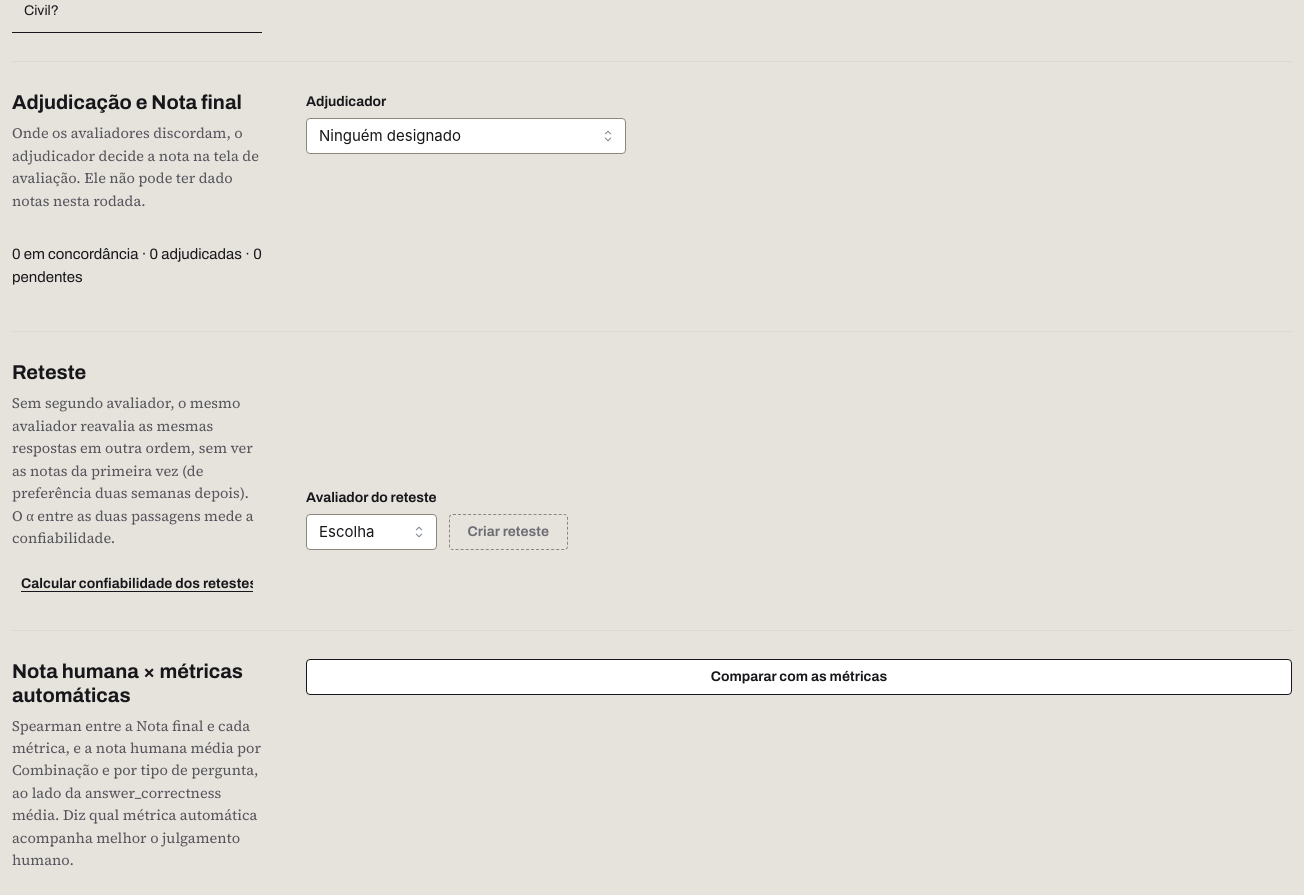
Test case: RodadaDetailPage › creates a retest for an Avaliador who scored the Rodada and shows the intra-rater alpha
(page scrolled)
Select "Ana" in the dropdown labelled "Avaliador do reteste": (371, 532) [306,514,437,550]
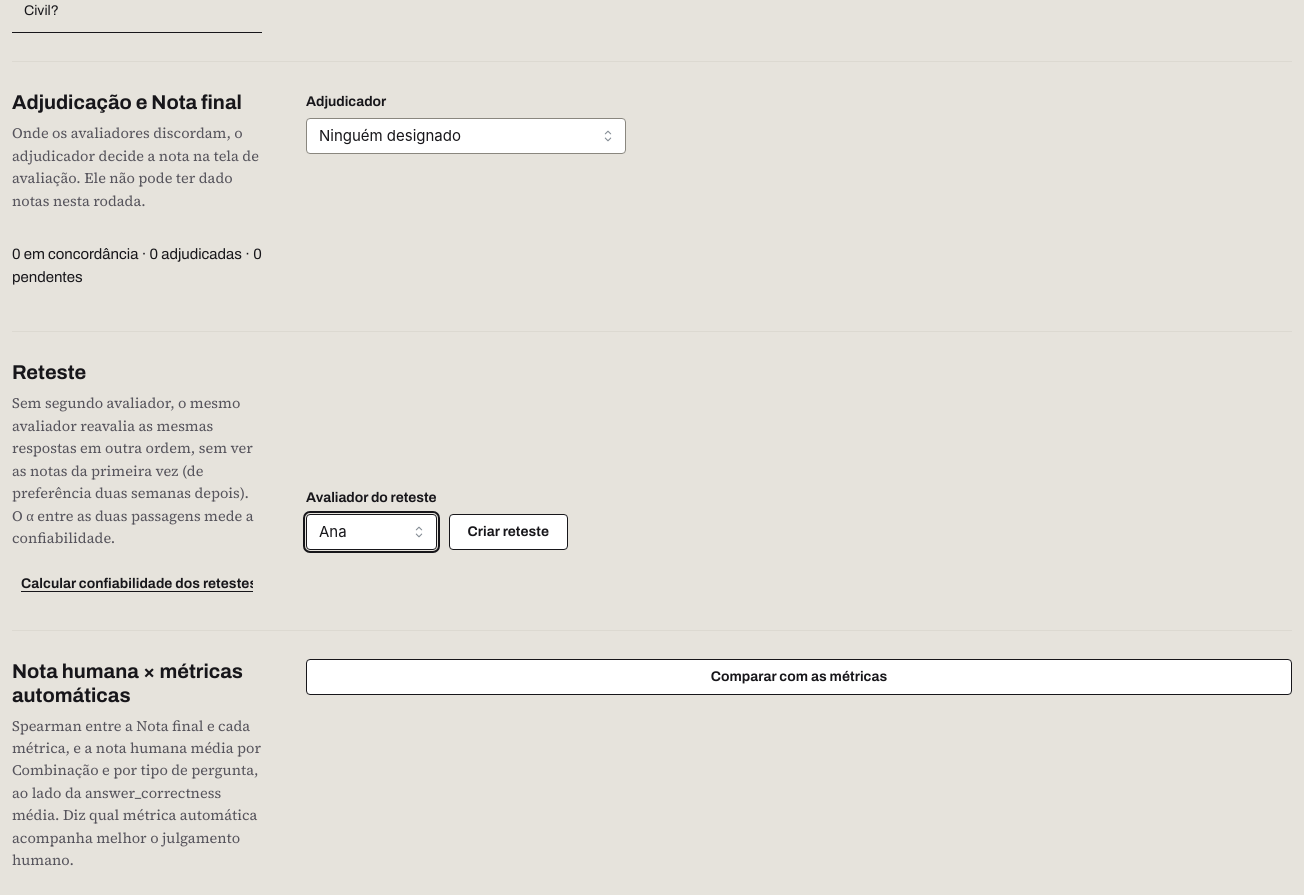
Click the button "Criar reteste": (508, 532) [449,514,568,550]
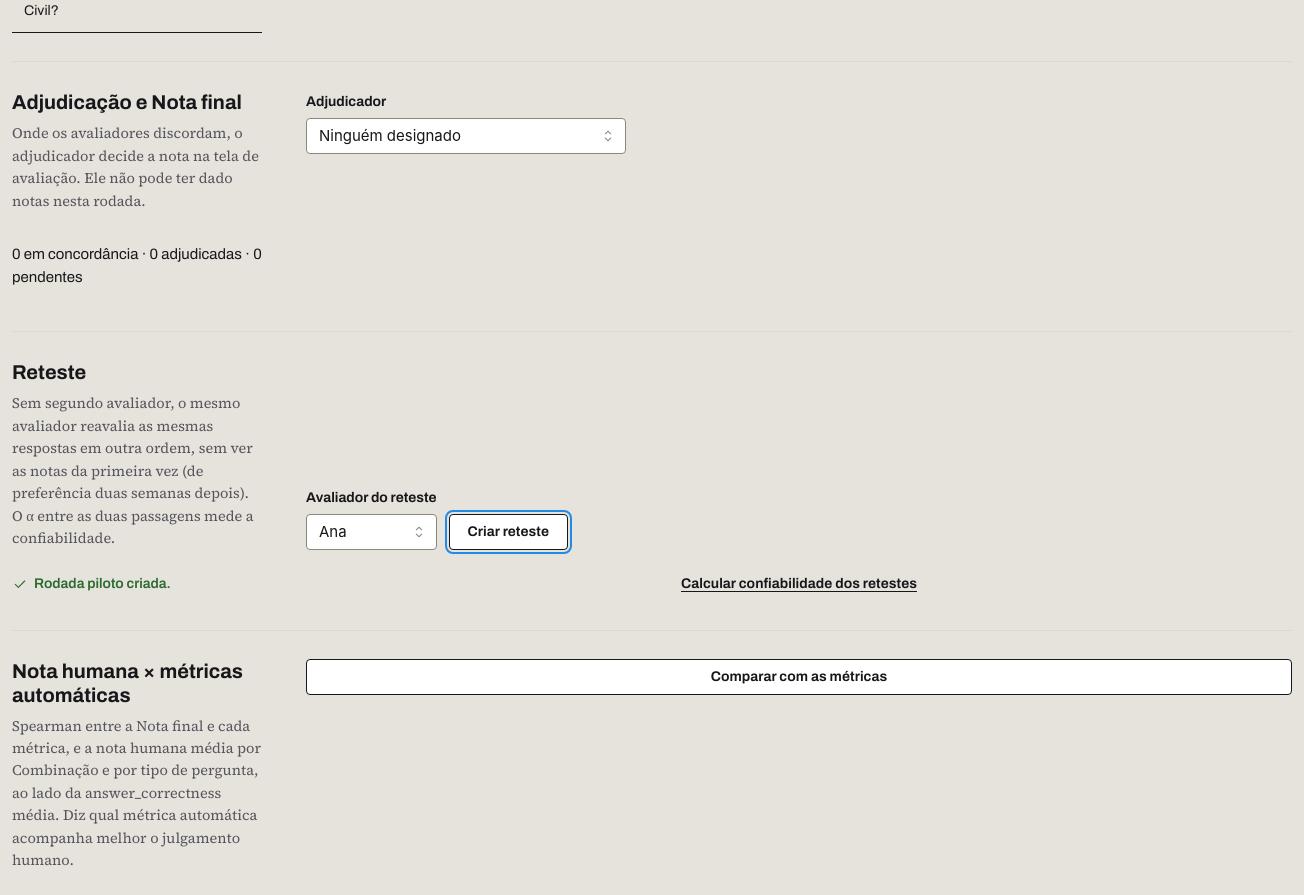
Click the button "Calcular confiabilidade dos retestes": (799, 584) [306,566,1292,602]
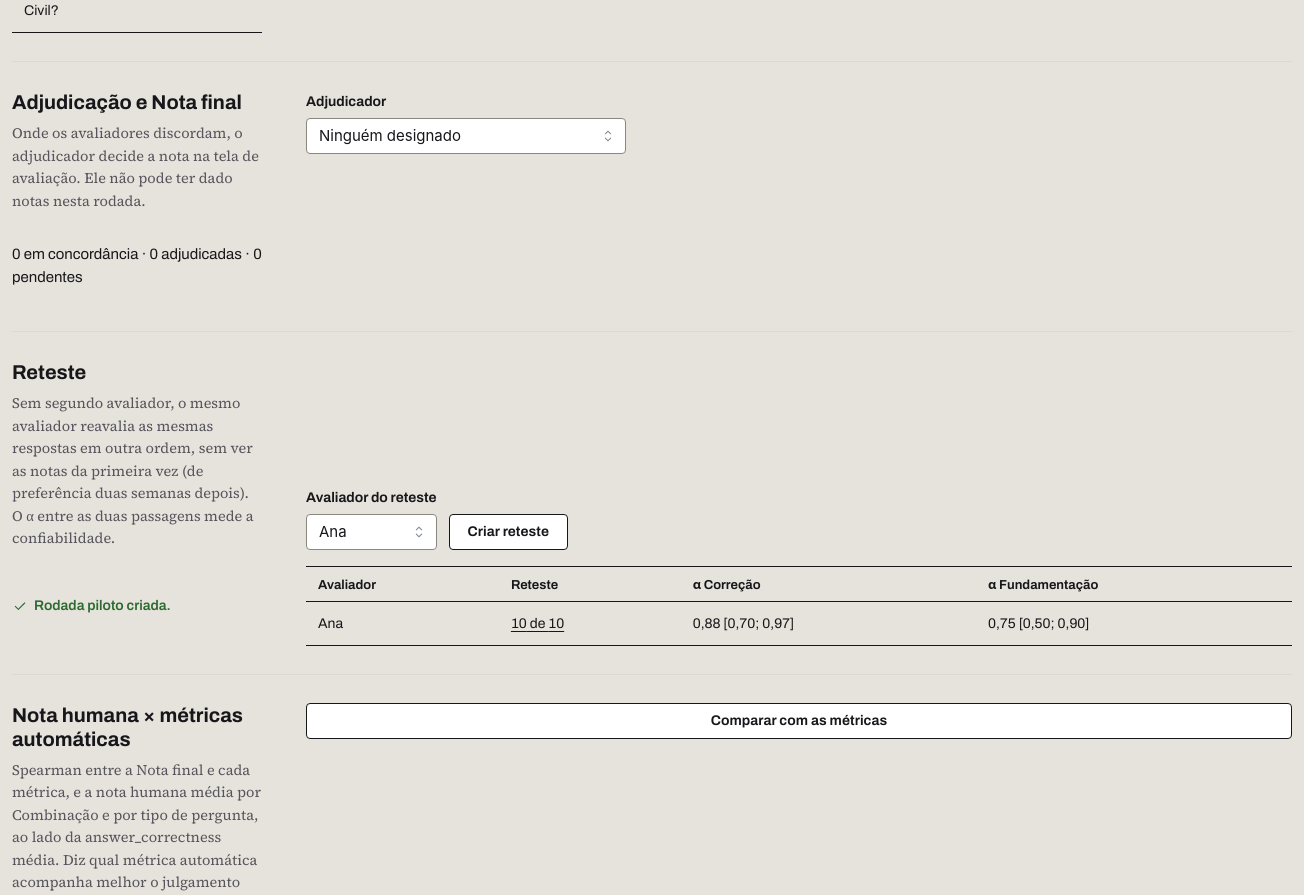
Expected: the text "0,88 [0,70; 0,97]" is shown, [681,601,976,645]
Expected: the link "10 de 10" is shown, [511,616,564,631]
